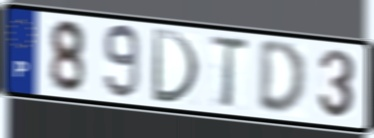3: (315, 48, 357, 121)
8: (47, 18, 88, 96)
9: (100, 22, 143, 103)
D: (149, 25, 202, 107), (256, 40, 309, 119)
T: (207, 35, 251, 112)
